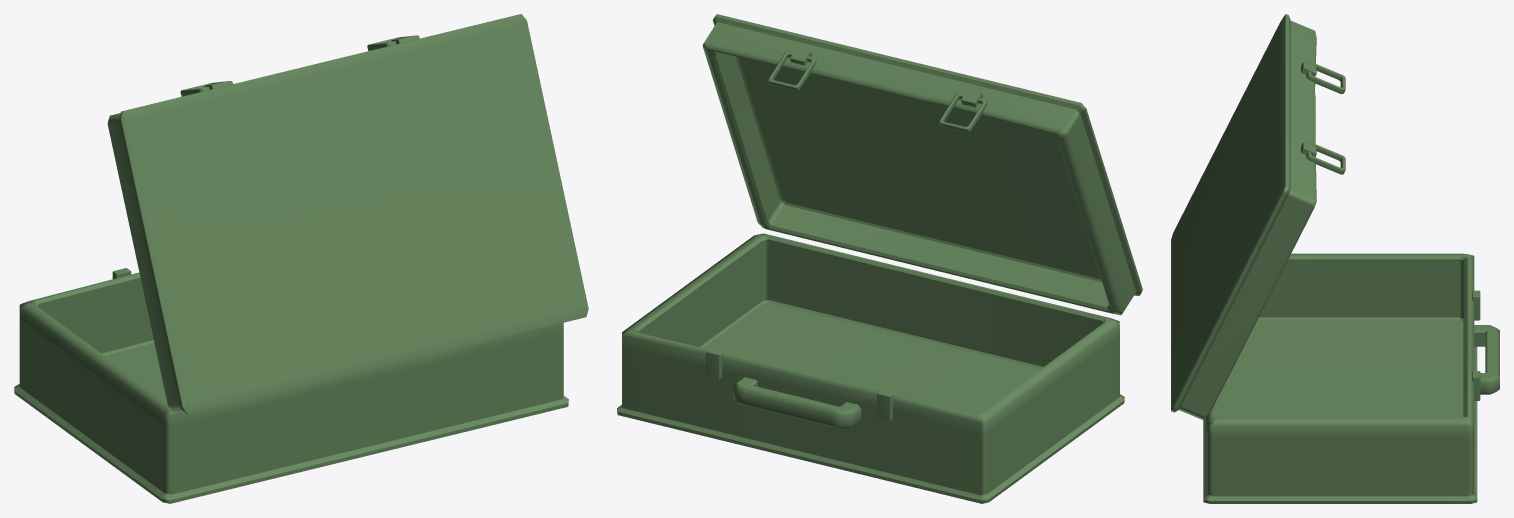
File: luggage05Open.fbx
The picture shows the model from 3 angles, left to right: view 1: azimuth 30°, elevation 25°; view 2: azimuth 150°, elevation 25°; view 3: azimuth 270°, elevation 25°; orthographic projection. The views are drawn at different scales.
Parts seen in each view (by area): view 1: Luggage03Open; view 2: Luggage03Open; view 3: Luggage03Open.
Boxes of the visible parts, x1=… form: Luggage03Open: x1=14, y1=14, x2=588, y2=503; Luggage03Open: x1=617, y1=14, x2=1142, y2=503; Luggage03Open: x1=1171, y1=14, x2=1499, y2=503.
Size of the model in its own units: 60.57 by 51.28 by 48.01.
